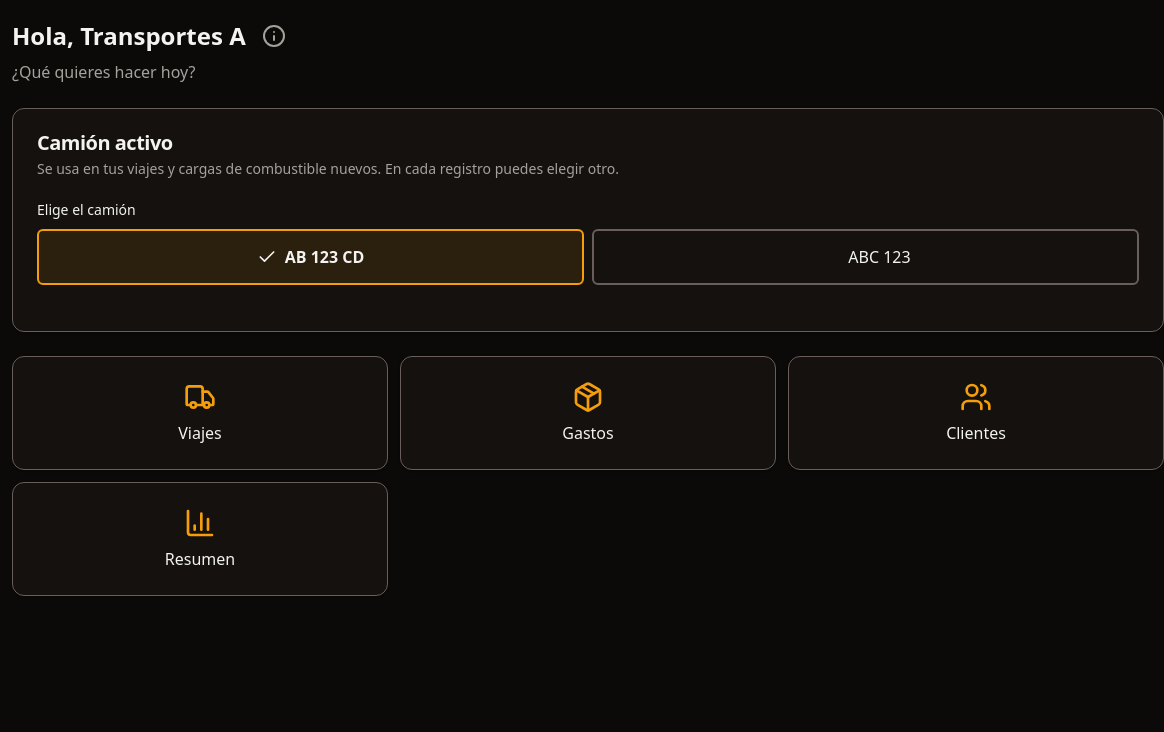
Test: tarjeta del camión activo: elegir › error de la base (55000, se archivó mientras tanto): mensaje propio, sin "Reintentar", queda el de antes y se refresca la lista
The width and height of the screenshot is (1164, 732).
Click the radio button labelled "ABC 123" at (866, 257), box [592,229,1139,285]
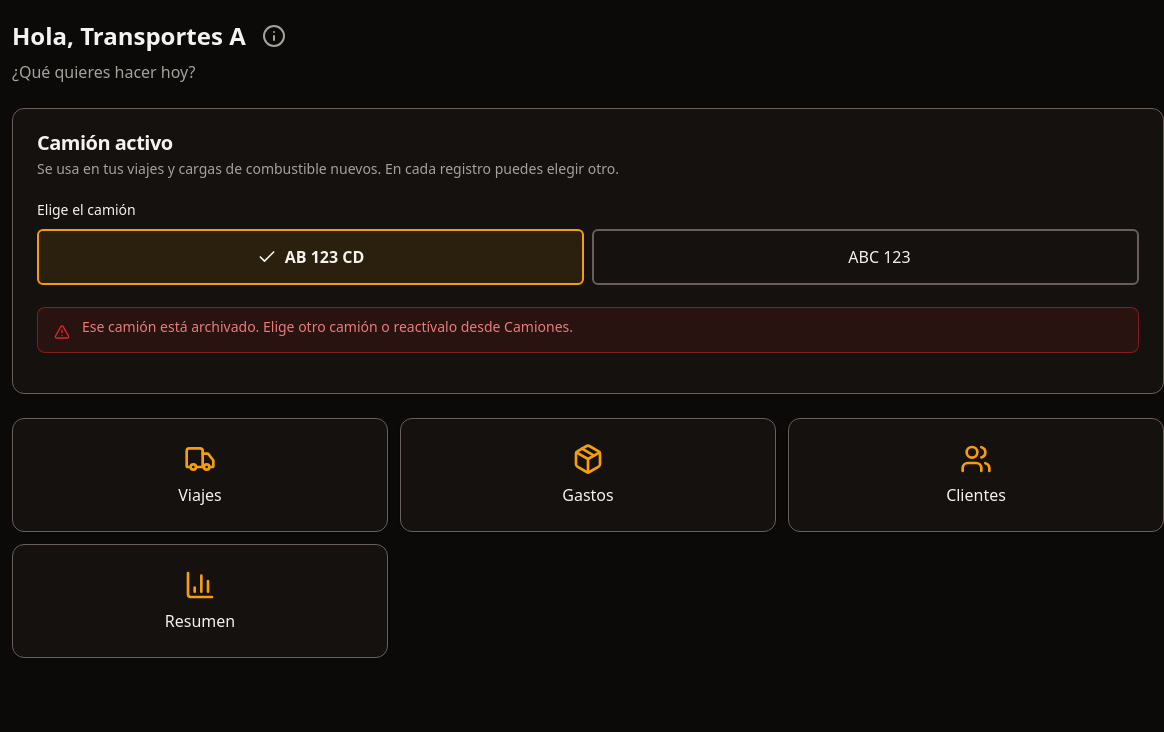
Expected: the text "AB 123 CD" is shown, [285,247,364,267]
Result: the message "Ese camión está archivado. Elige otro camión o reactívalo desde Camiones." is shown at [37,307,1139,353]
